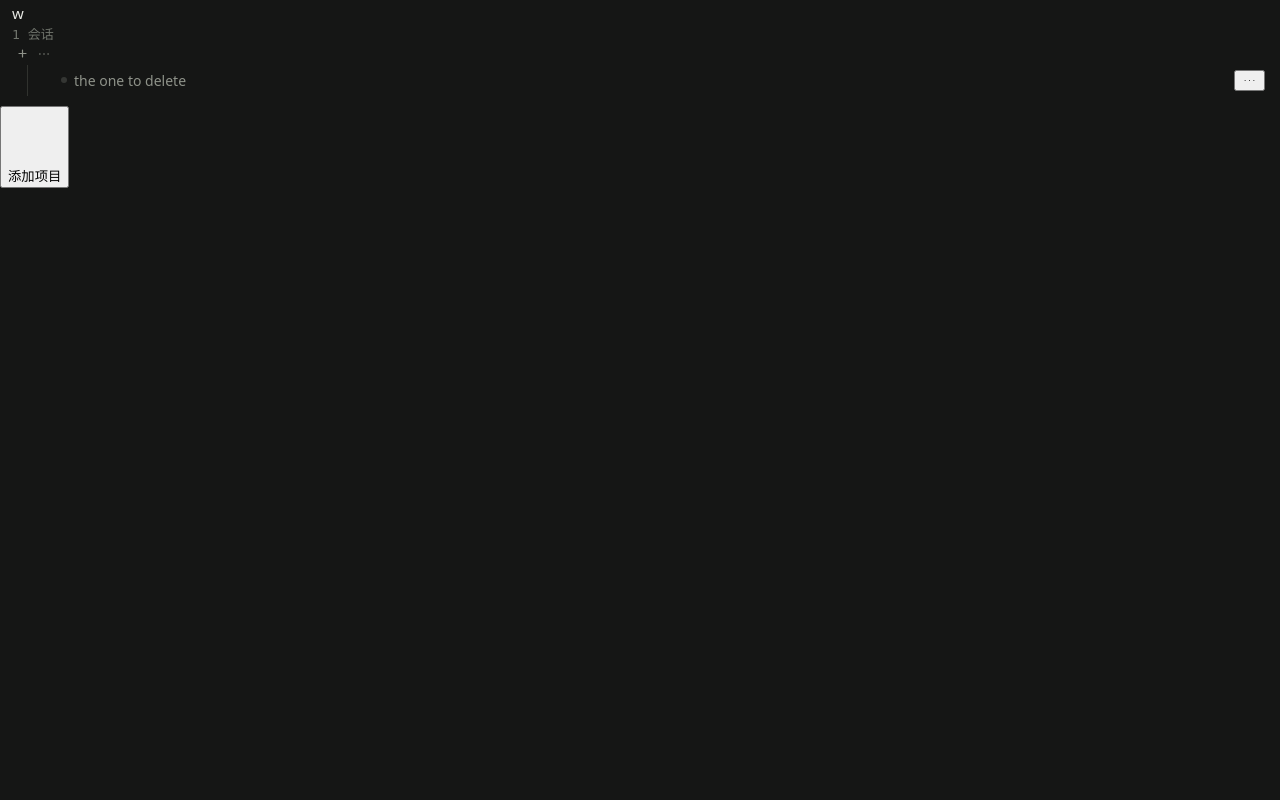
Test: deleting a conversation from the rail › deletes nothing when the question is dismissed
The image size is (1280, 800).
Click the button named "会话操作：".
click(1250, 80)  # box [1234,70,1265,90]
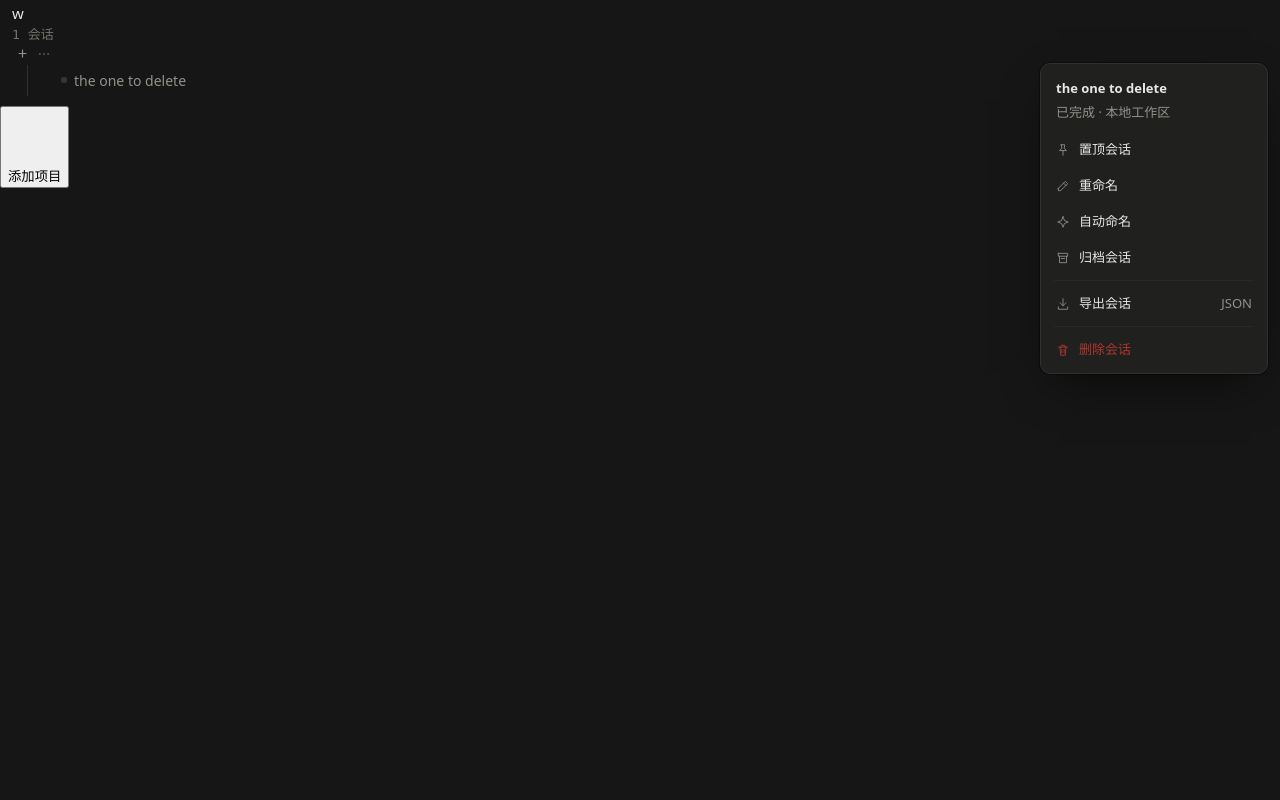
Click the menu item "删除会话".
click(1154, 350)  # box [1047,332,1261,367]
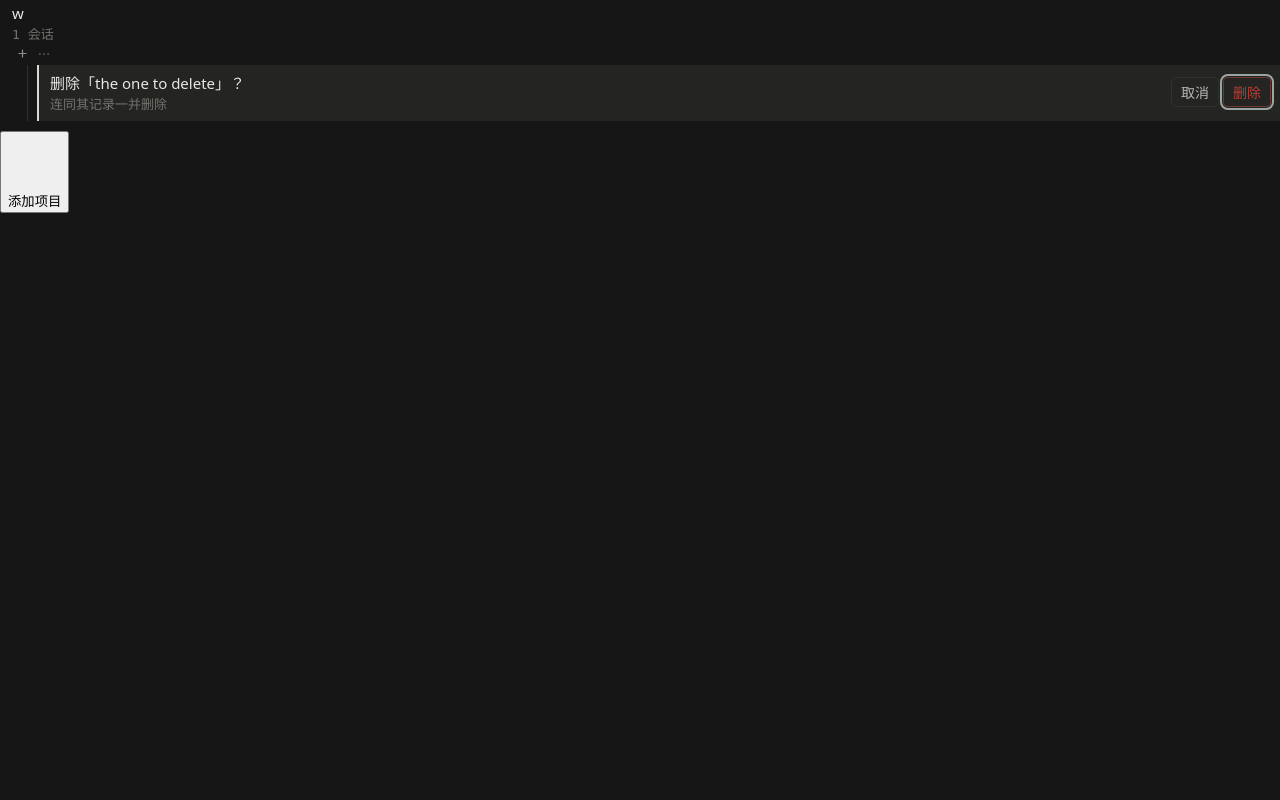
Click the button "取消".
click(1195, 92)  # box [1171,77,1219,107]
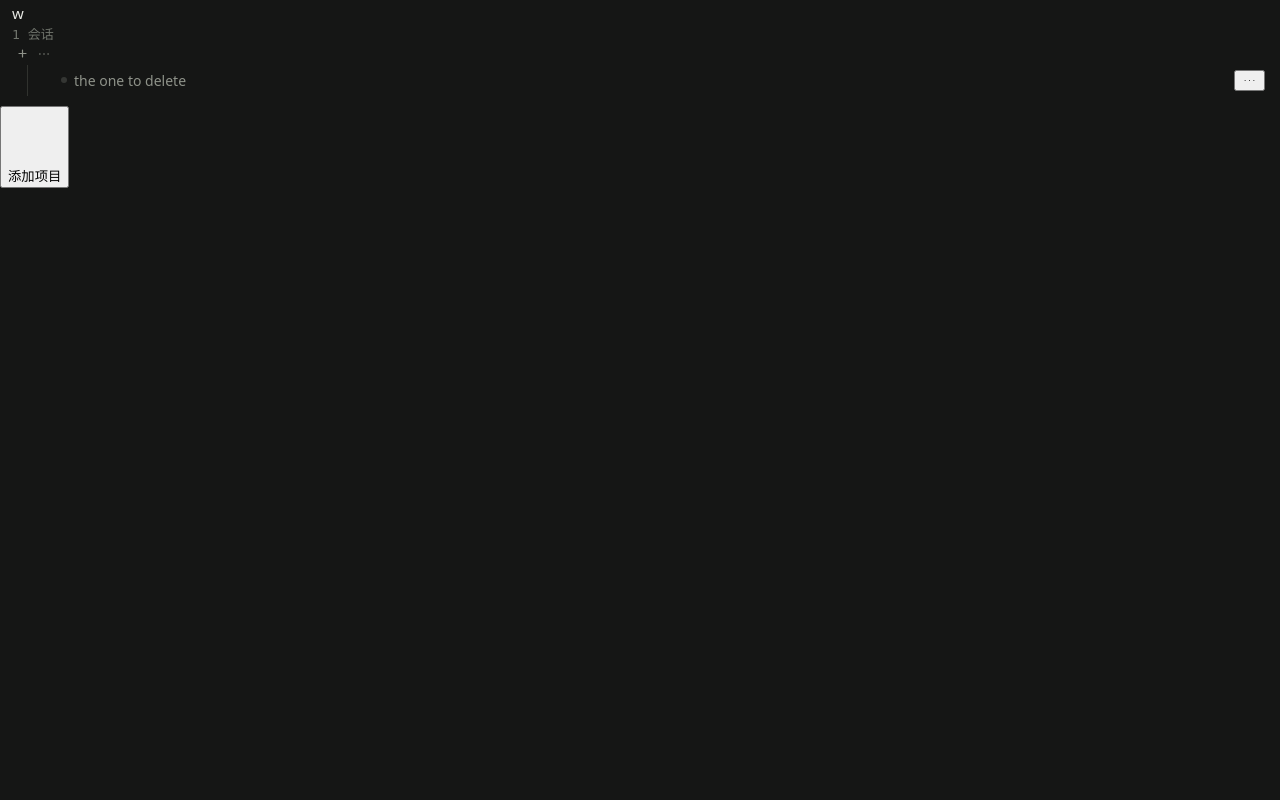
Now the dialog is gone
